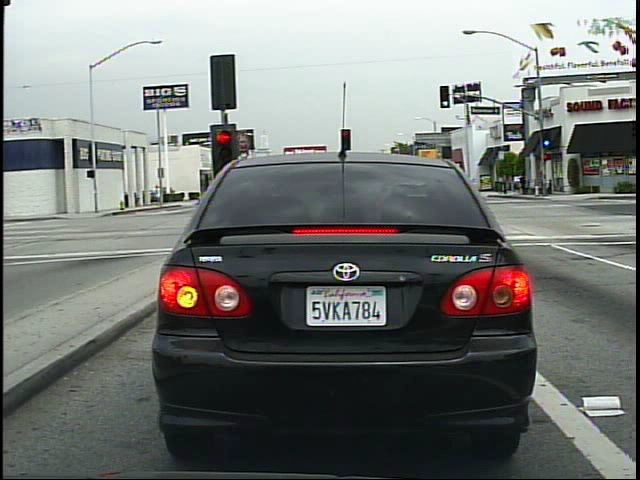person: (518, 170, 529, 197), (153, 180, 161, 209)
